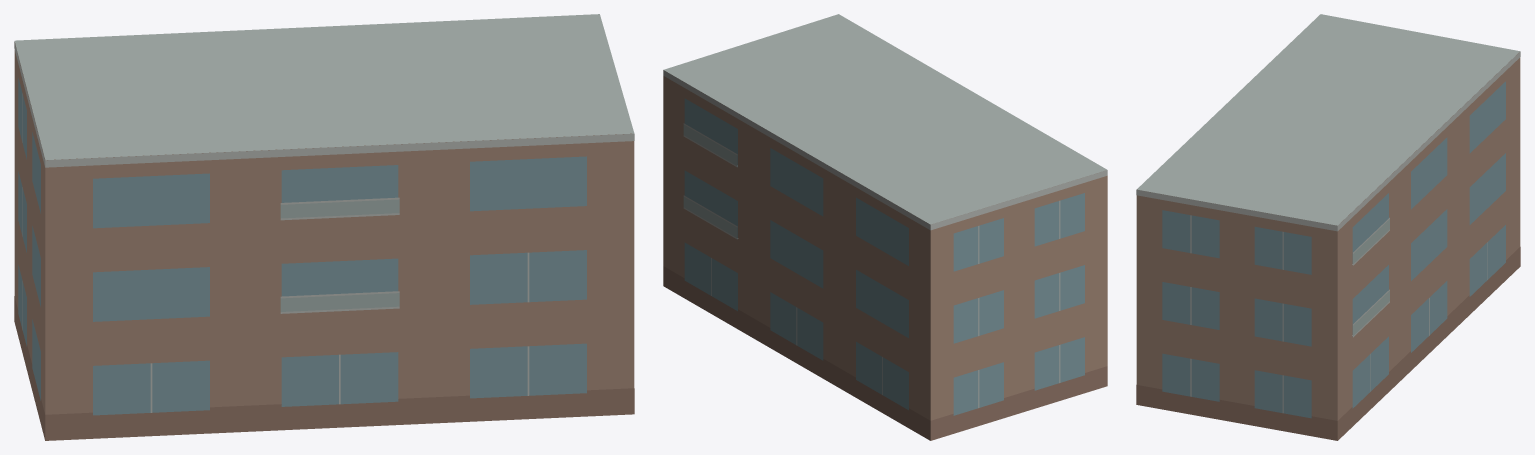
The model's file is survey-upis-32708280.glb.
3 renders of one model, left to right at view 1: azimuth 30°, elevation 25°; view 2: azimuth 150°, elevation 25°; view 3: azimuth 270°, elevation 25°, orthographic. The views are drawn at different scales.
Visible parts, largest first — view 1: survey-upis-32708280.tmp; view 2: survey-upis-32708280.tmp; view 3: survey-upis-32708280.tmp.
Boxes of the visible parts, x1=… form: survey-upis-32708280.tmp: x1=14, y1=14, x2=634, y2=440; survey-upis-32708280.tmp: x1=663, y1=14, x2=1107, y2=440; survey-upis-32708280.tmp: x1=1136, y1=14, x2=1520, y2=440.
Bounding box in the file's own units: 19.31 × 9.15 × 14.8.
